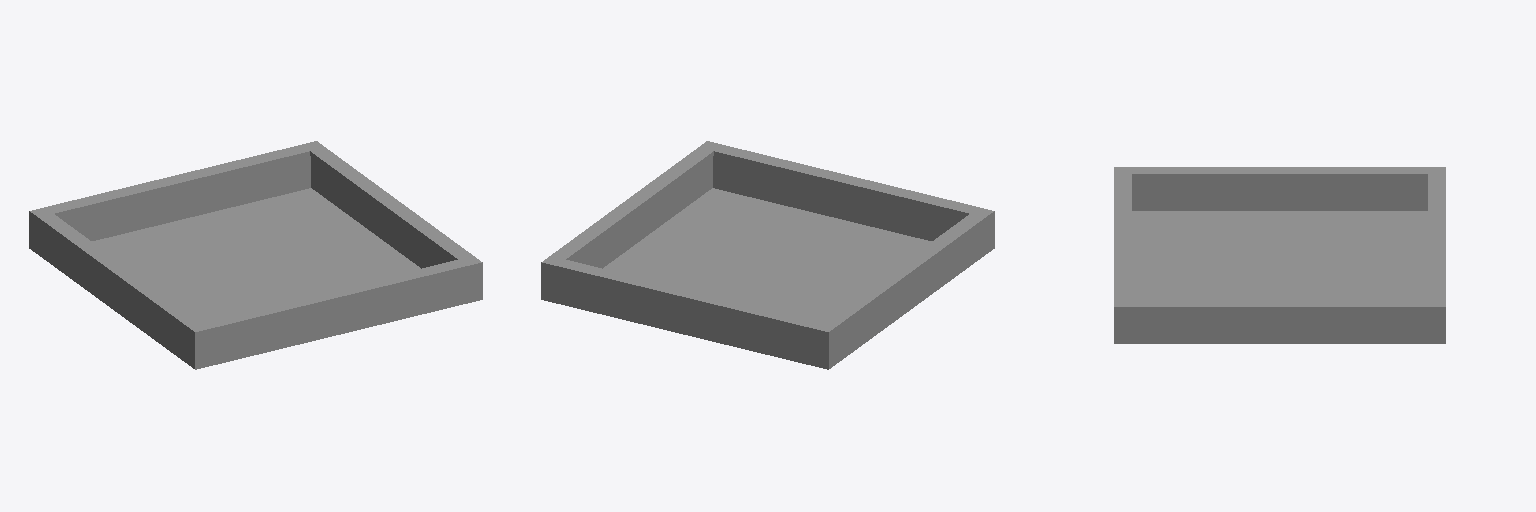
The model's file is Ground.obj.
3 renders of one model, left to right at view 1: azimuth 30°, elevation 25°; view 2: azimuth 150°, elevation 25°; view 3: azimuth 270°, elevation 25°, orthographic.
Parts seen in each view (by area): view 1: Ground; view 2: Ground; view 3: Ground.
Part boxes in pixels (left/top/right/bottom): Ground: left=29, top=141, right=482, bottom=369; Ground: left=541, top=141, right=994, bottom=369; Ground: left=1114, top=167, right=1445, bottom=343.
Size of the model in its own units: 35.08 by 4.51 by 35.08.